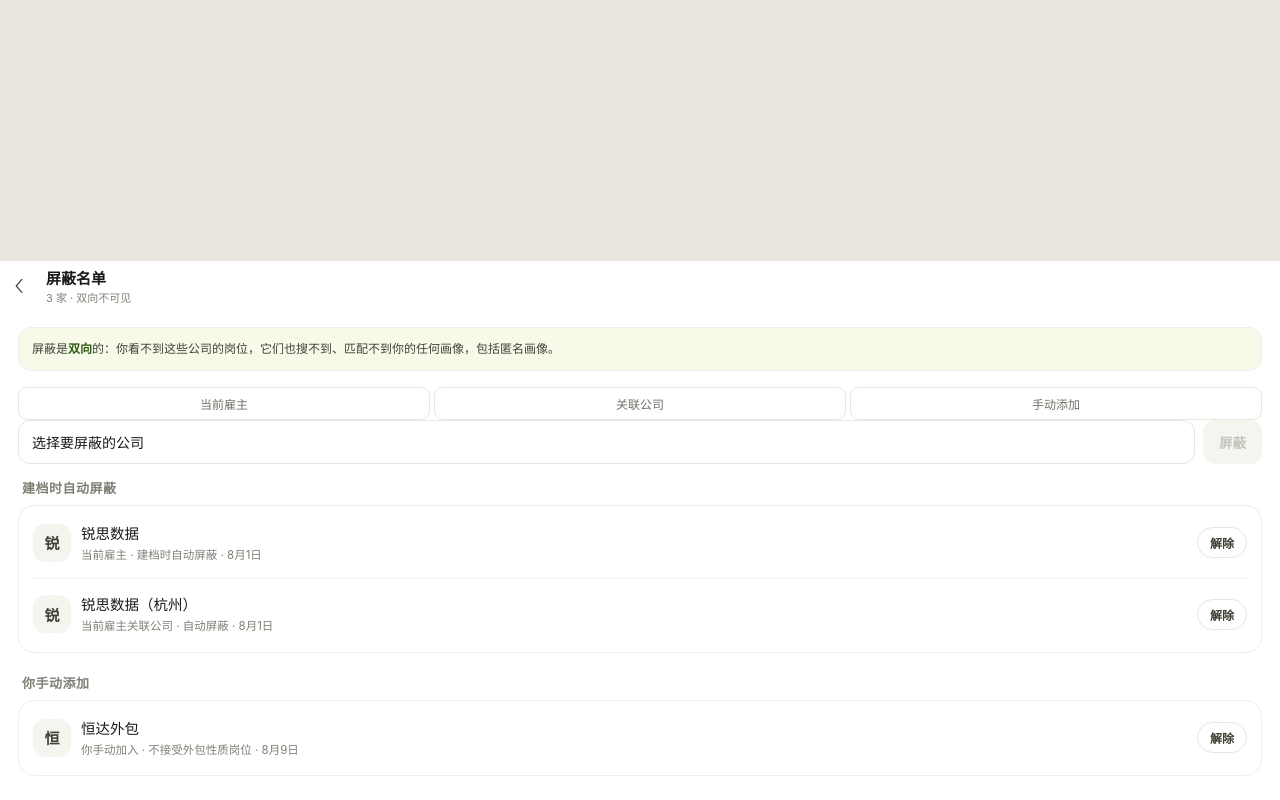
屏蔽名单 · Backend 公司选择抽屉写线 › 解除走操作层并传完整条目：风险警示只对当前雇主/关联公司出现，本地归约不被派发
This screenshot has width=1280, height=800.
(page scrolled)
What coordinates should you click on to do the following:
click the button "解除" in the row of "当前雇主 · 建档时自动屏蔽"
I would click on:
 (1222, 543)
Its box is [1197, 528, 1247, 558].
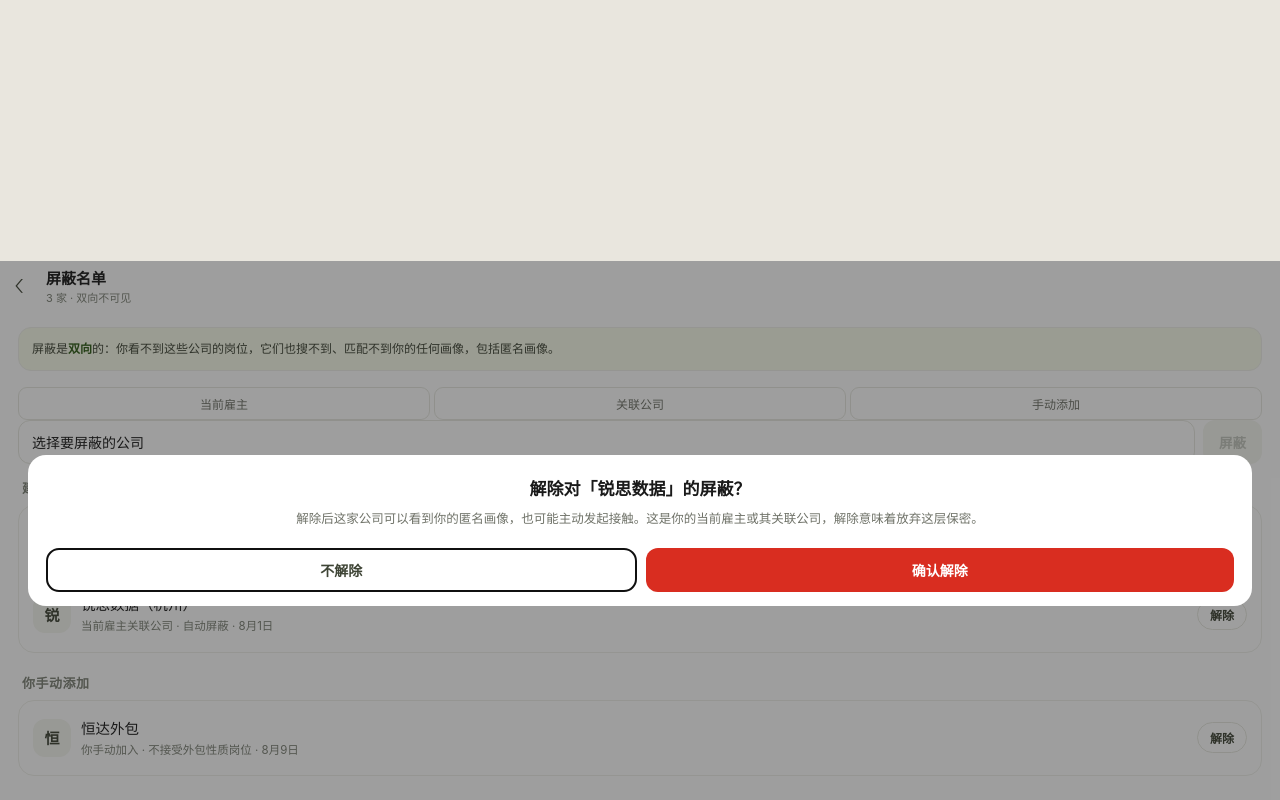
Now the text "解除后这家公司可以看到你的匿名画像，也可能主动发起接触。这是你的当前雇主或其关联公司，解除意味着放弃这层保密。" is shown, box [296, 511, 984, 526]
What coordinates should you click on to do the following:
click the button "确认解除"
I would click on:
 (940, 570)
Its box is [646, 548, 1234, 592].
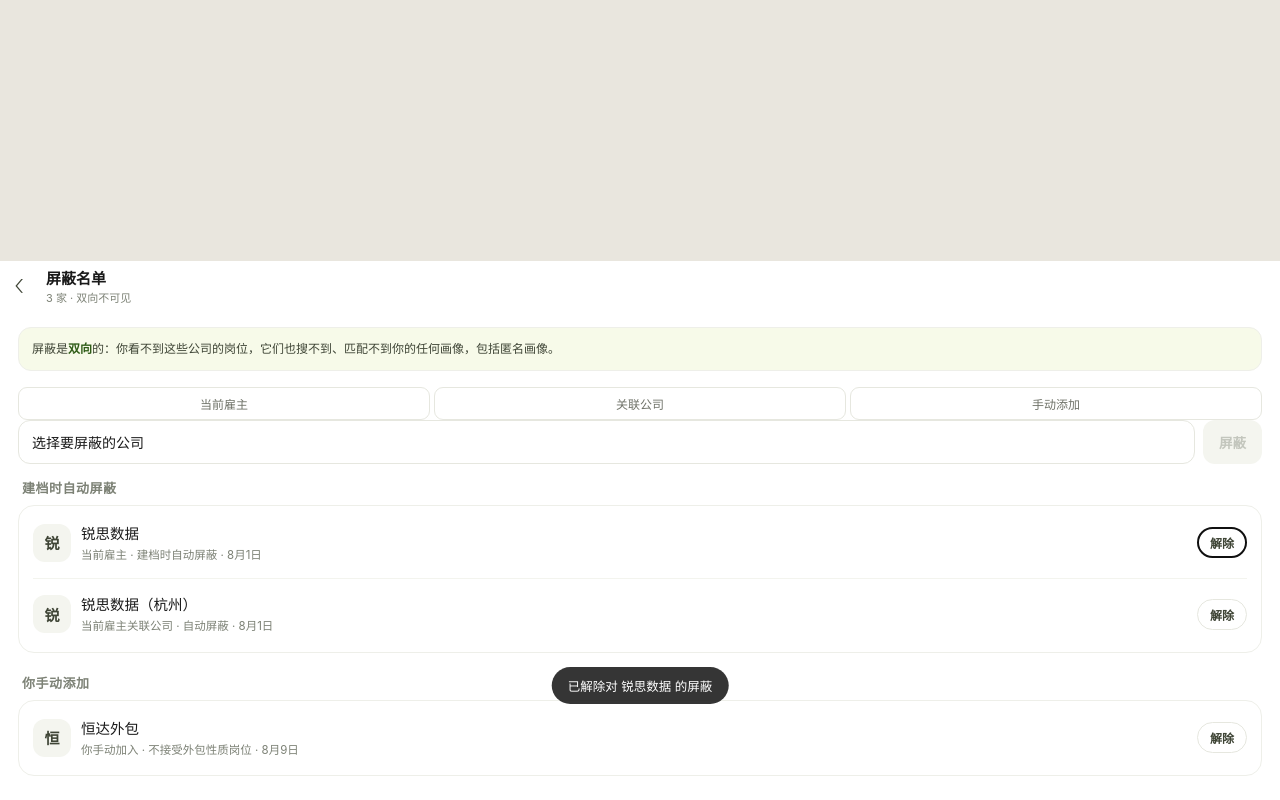
What coordinates should you click on to do the following:
click the button "解除" in the row of "8月9日"
I would click on:
 (1222, 738)
Its box is [1197, 722, 1247, 753].
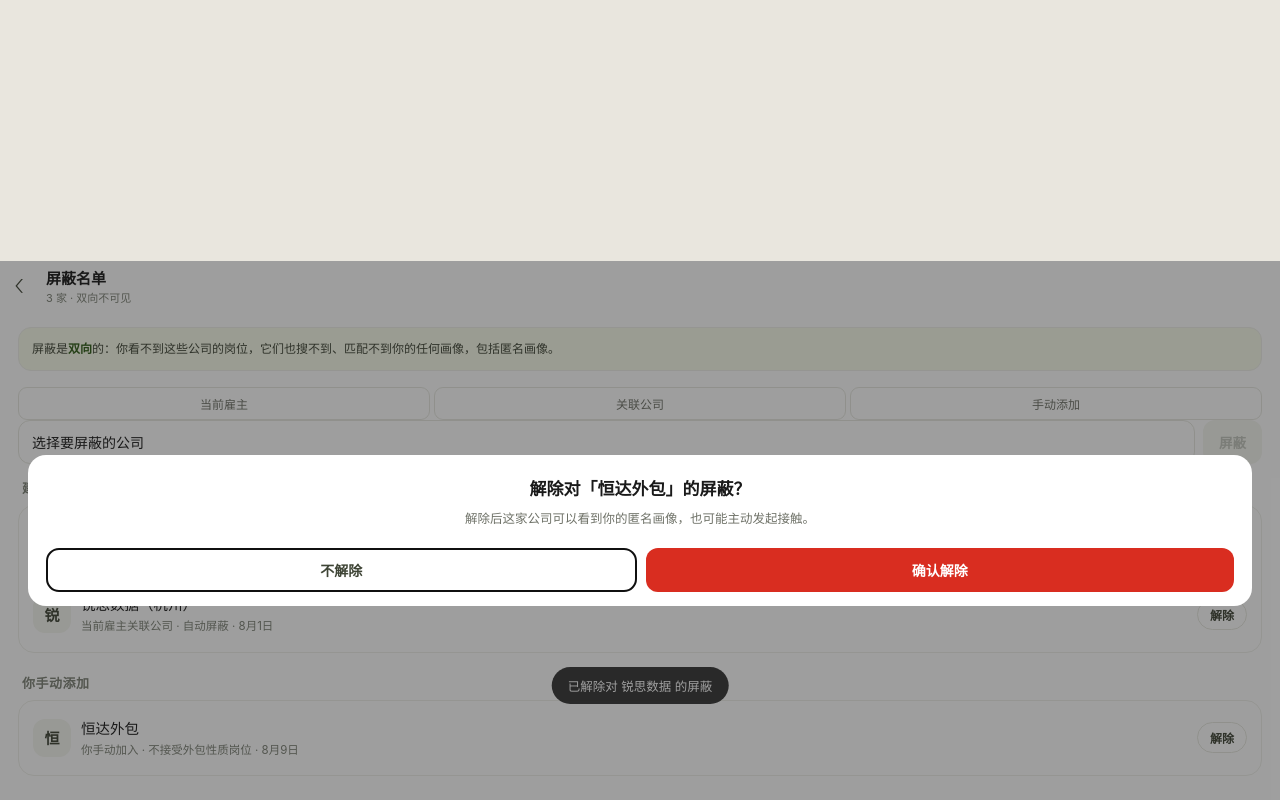
Expected: the text "解除后这家公司可以看到你的匿名画像" does not show "放弃这层保密"
What coordinates should you click on to do the following:
click the button "确认解除"
I would click on:
 (940, 570)
Its box is [646, 548, 1234, 592].
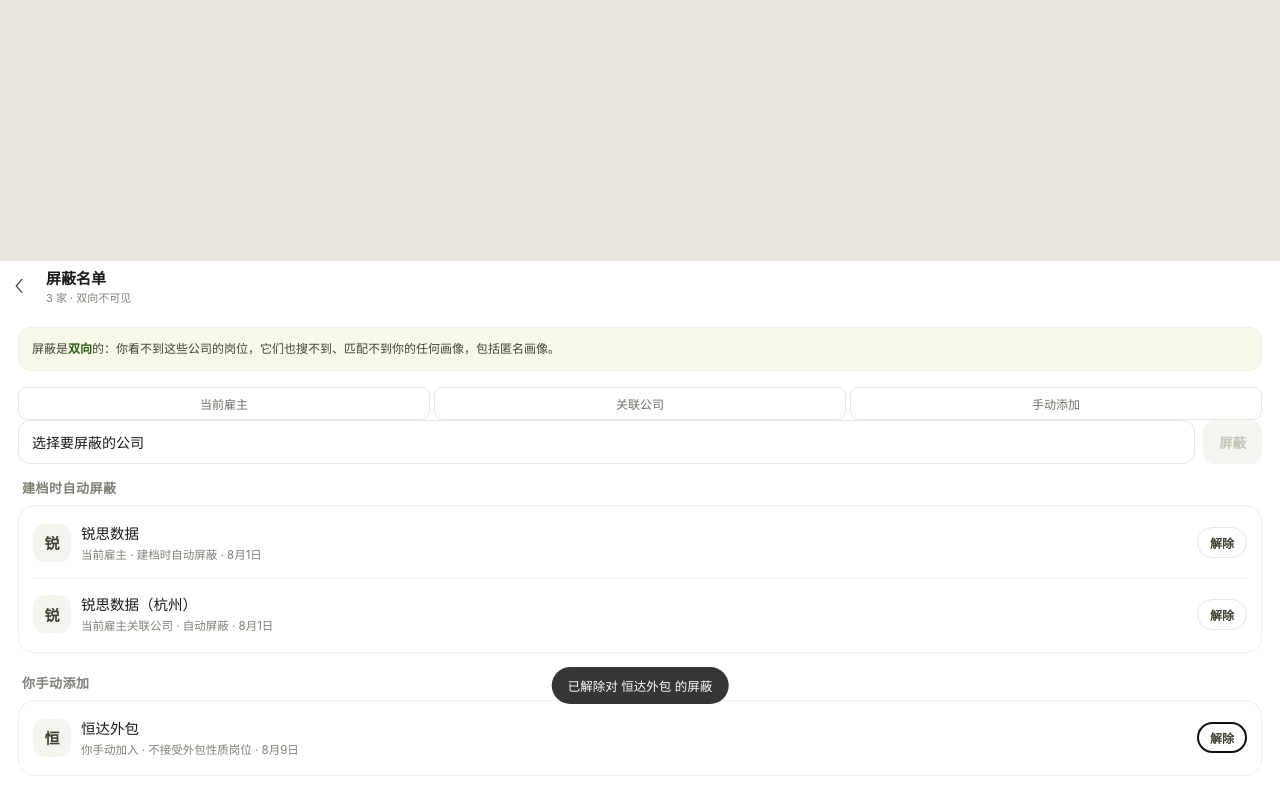
Now the text "已解除对 恒达外包 的屏蔽" is shown, box [552, 667, 728, 704]
